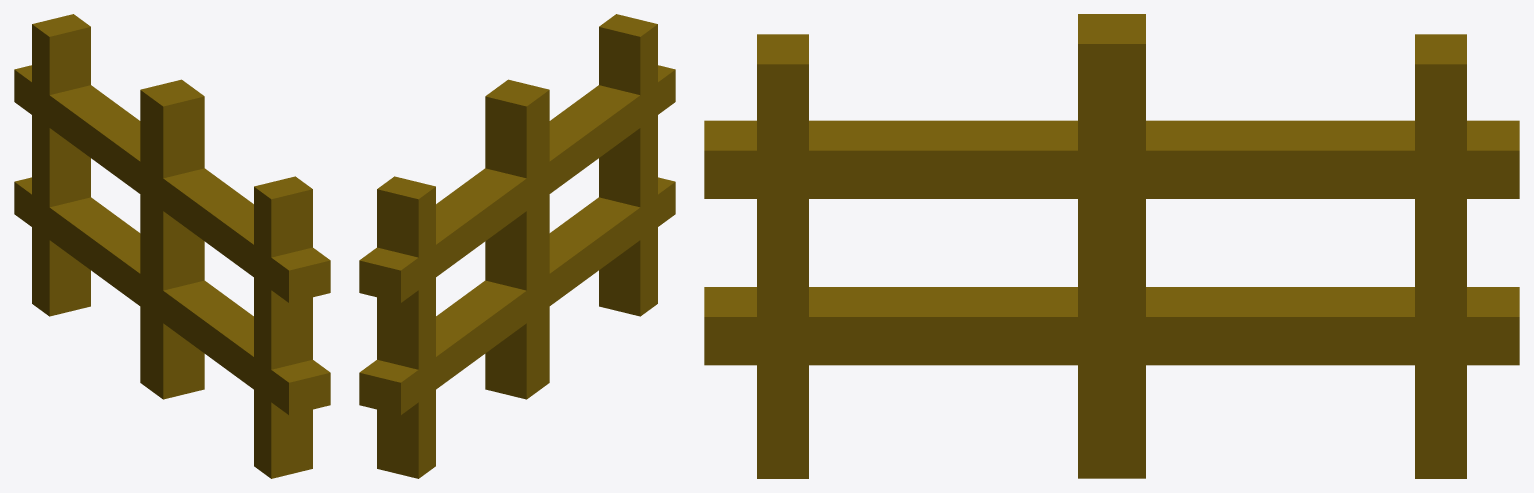
The model's file is fence.fbx.
The picture shows the model from 3 angles, left to right: view 1: azimuth 30°, elevation 25°; view 2: azimuth 150°, elevation 25°; view 3: azimuth 270°, elevation 25°; orthographic projection. The views are drawn at different scales.
Parts seen in each view (by area): view 1: Cube; view 2: Cube; view 3: Cube.
Boxes of the visible parts, bbox=[...] form: Cube: bbox=[14, 14, 330, 478]; Cube: bbox=[359, 14, 675, 478]; Cube: bbox=[704, 14, 1519, 478].
Bounding box in the file's own units: 103 × 694 × 1178.
